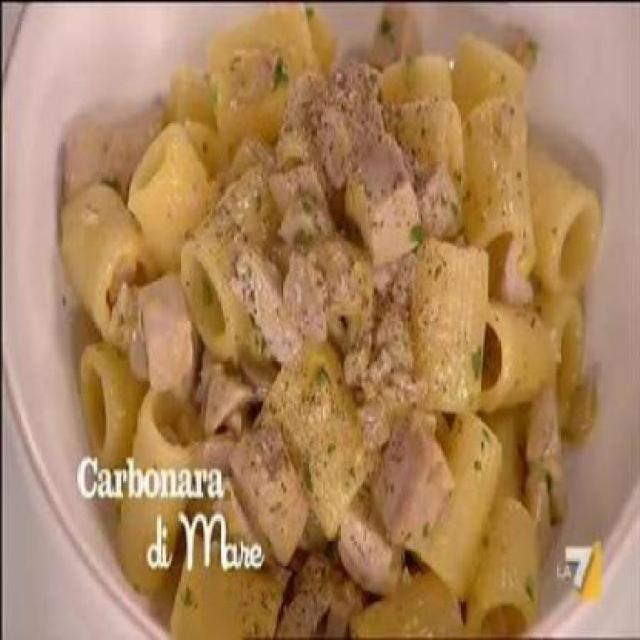Pasta with carbonara sauce: (31, 38, 611, 544)
